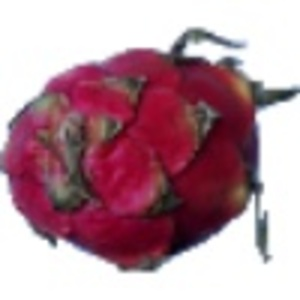pitaia: (1, 28, 300, 274)
